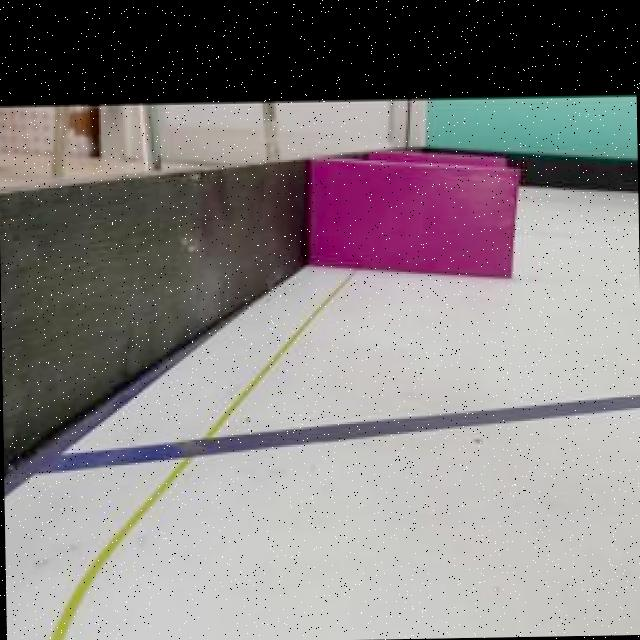xparking: (311, 159, 513, 272)
